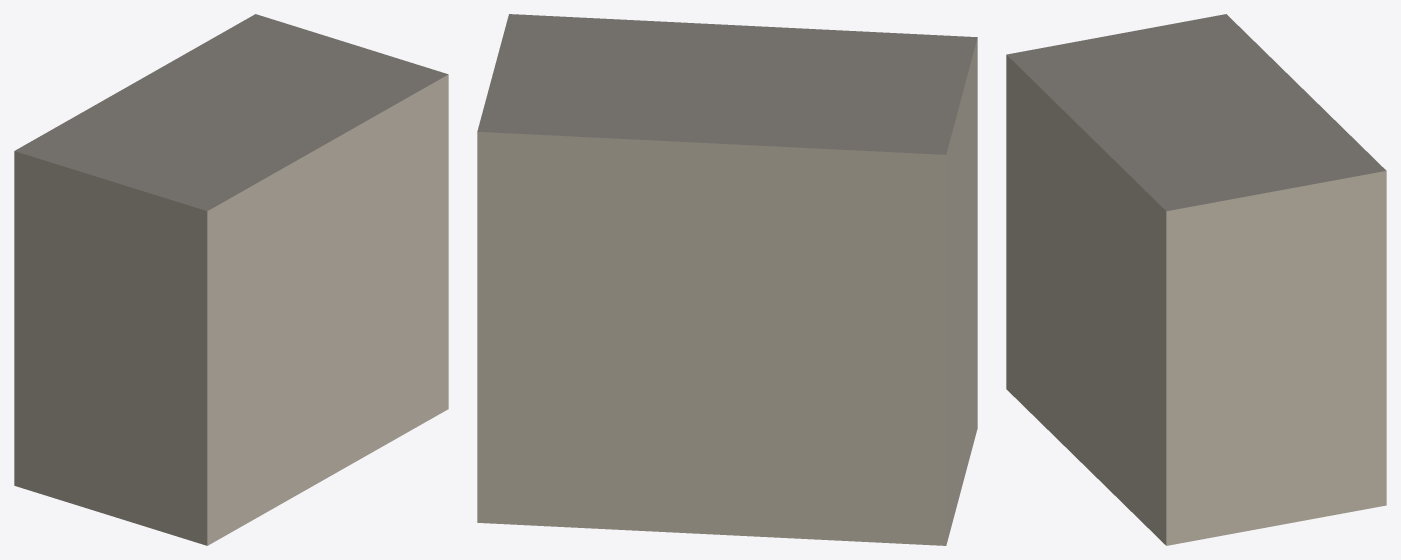
The picture shows the model from 3 angles, left to right: view 1: azimuth 30°, elevation 25°; view 2: azimuth 150°, elevation 25°; view 3: azimuth 270°, elevation 25°; orthographic projection. The views are drawn at different scales.
Parts seen in each view (by area): view 1: HP-w1217015643; view 2: HP-w1217015643; view 3: HP-w1217015643.
Part boxes in pixels (x1,y1,x2,y2): HP-w1217015643: (14,14,448,545); HP-w1217015643: (477,14,977,545); HP-w1217015643: (1006,14,1386,545).
Bounding box in the file's own units: 22.75 × 18 × 18.53.
